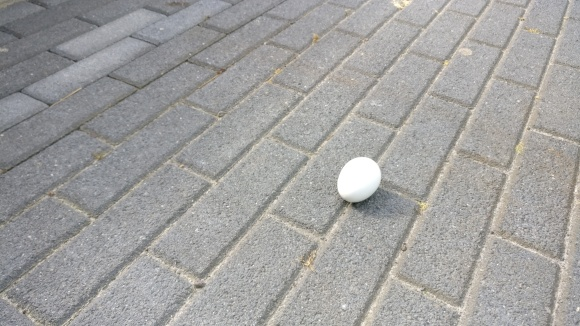egg: (336, 156, 381, 204)
